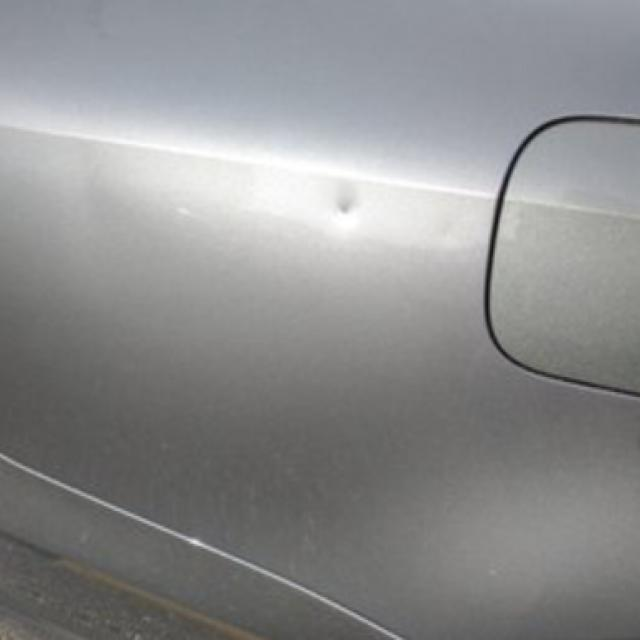dents: (319, 162, 370, 238)
